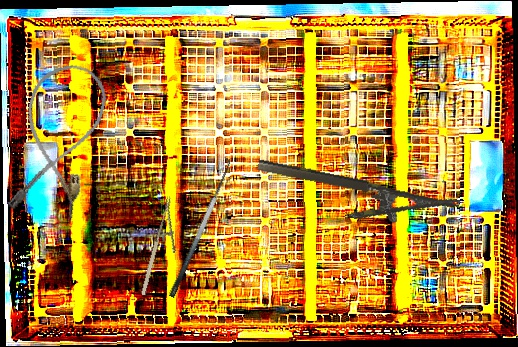Cannula: (2, 56, 113, 225)
Needle Holder: (251, 157, 461, 240), (137, 195, 191, 301)
Spatula Surgical: (157, 154, 238, 299)
